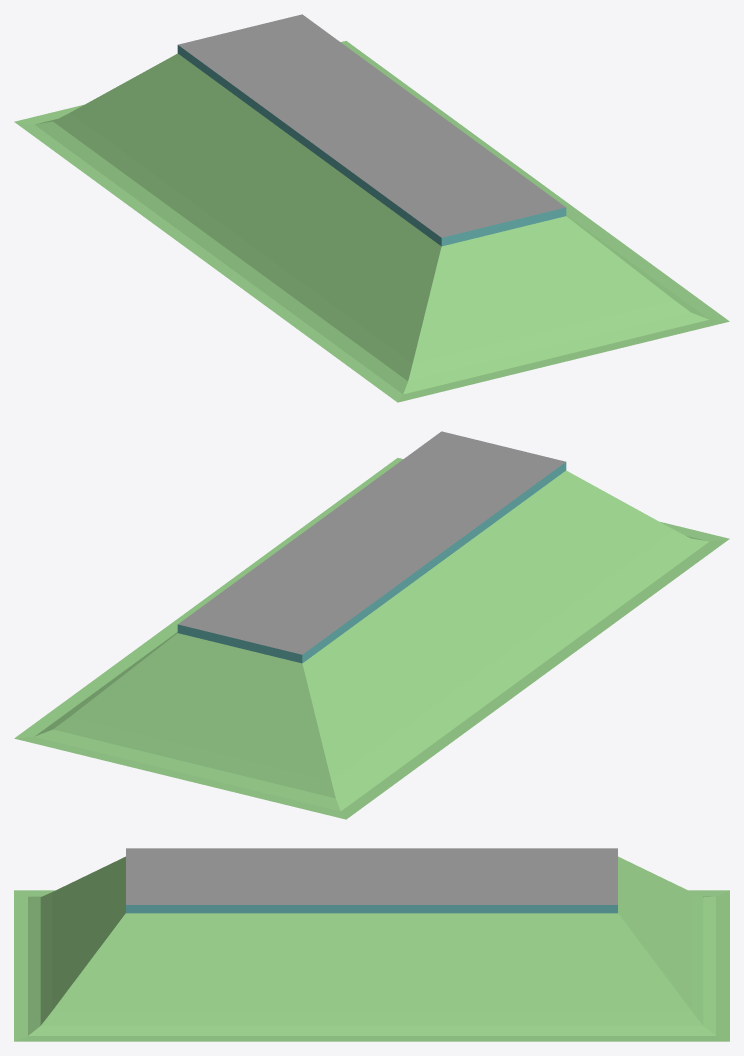
Rendered from CeilingCenterRectangleSmall.fbx.
3 views of the same model, one above another, from view 1: azimuth 30°, elevation 25°; view 2: azimuth 150°, elevation 25°; view 3: azimuth 270°, elevation 25° (orthographic). The views are drawn at different scales.
Parts seen in each view (by area): view 1: CeilingCenterRectangleSmall; view 2: CeilingCenterRectangleSmall; view 3: CeilingCenterRectangleSmall.
Part boxes in pixels (left/top/right/bottom): CeilingCenterRectangleSmall: left=14, top=14, right=729, bottom=402; CeilingCenterRectangleSmall: left=14, top=431, right=729, bottom=819; CeilingCenterRectangleSmall: left=14, top=848, right=729, bottom=1041.
Bounding box in the file's own units: 4 × 1.1 × 8.
